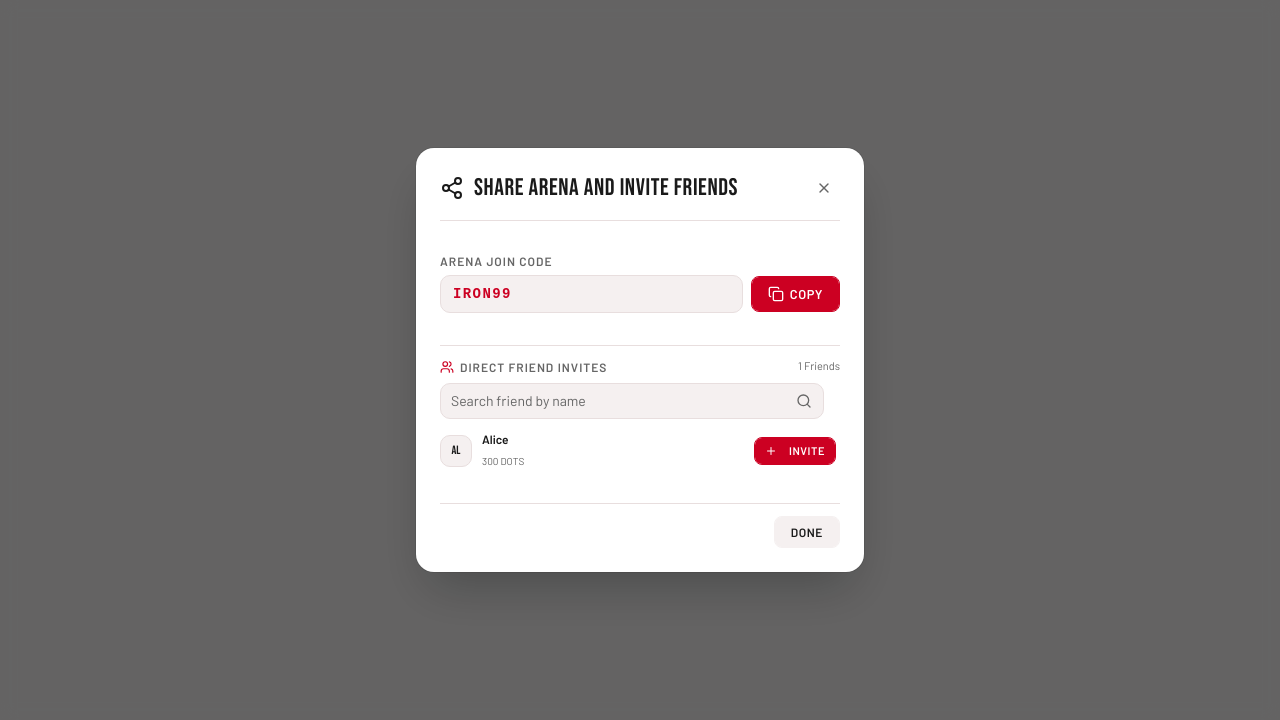
Test case: ModelShareArena › invites friend, shows invited
Expected: the text "Alice" is shown, left=482, top=432, right=508, bottom=446
Click the button "Invite" at (795, 451), box left=754, top=437, right=836, bottom=465
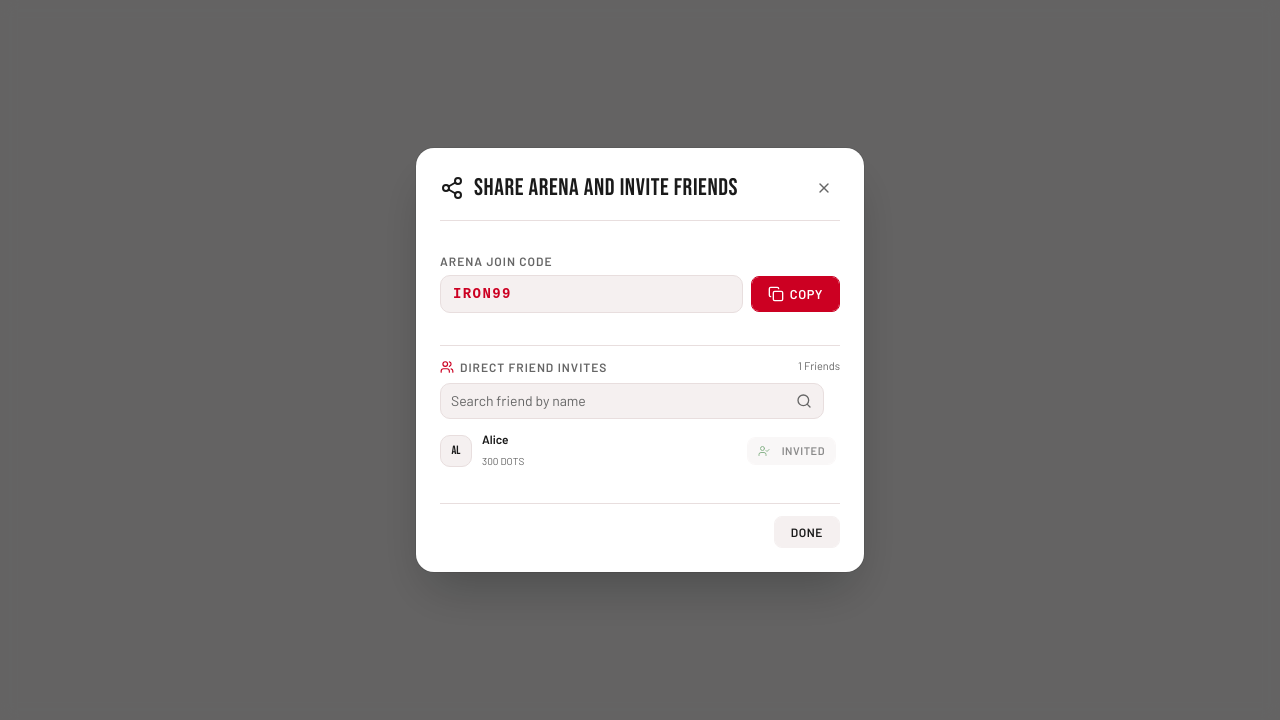
Now the text "Invited" is shown, box left=782, top=442, right=825, bottom=459
